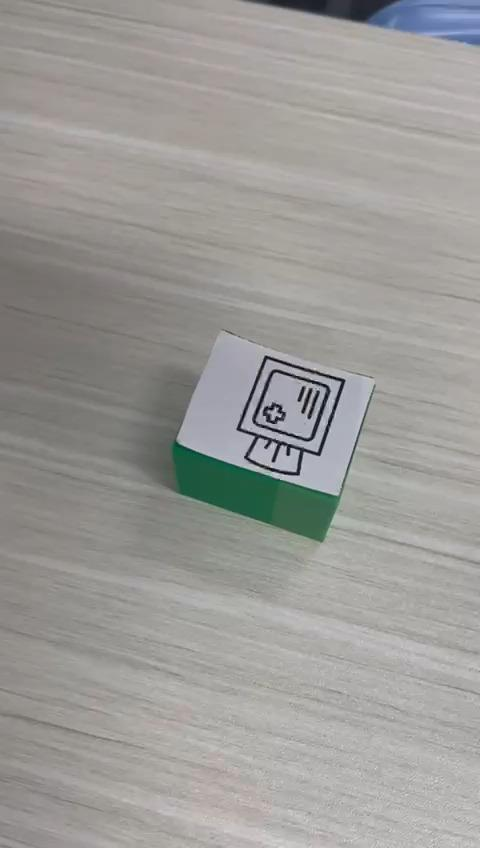Gauze: (171, 327, 375, 543)
